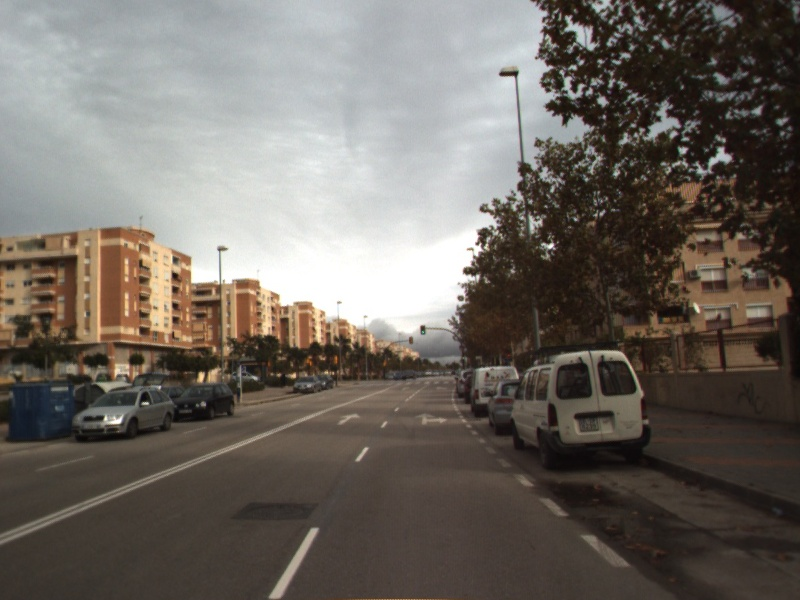STRAIGHT: (334, 411, 363, 427)
STRAIGHT_RIGHT: (413, 410, 450, 427)
